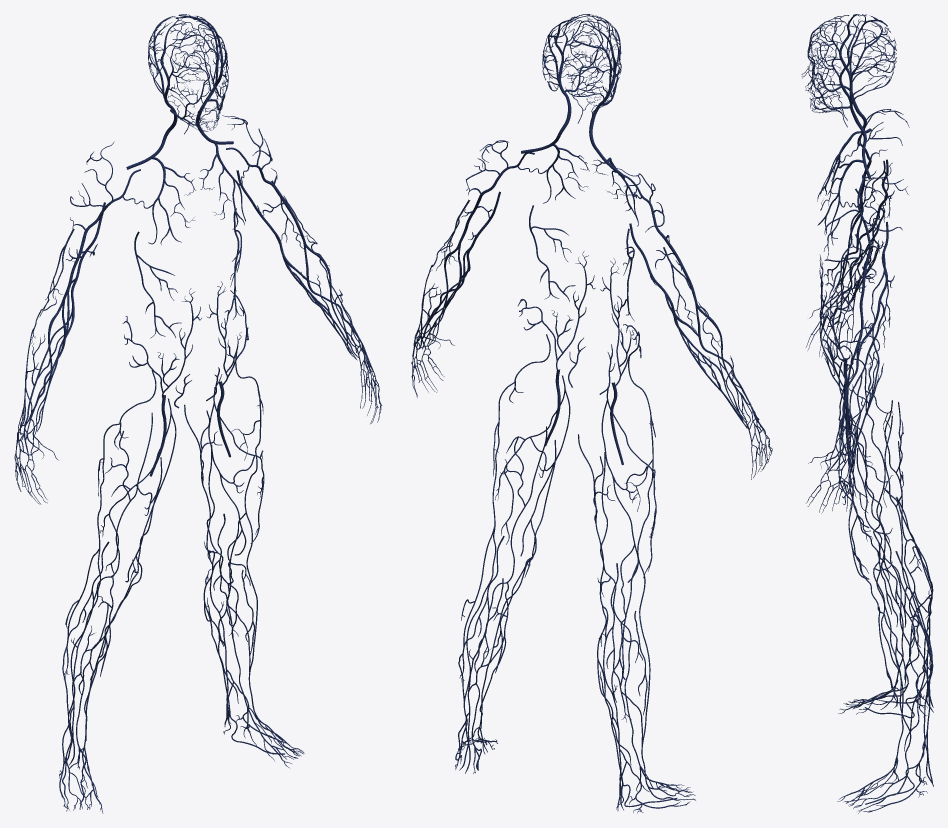
File: vessels.glb
3 renders of one model, left to right at view 1: azimuth 30°, elevation 25°; view 2: azimuth 150°, elevation 25°; view 3: azimuth 270°, elevation 25°, orthographic. The views are drawn at different scales.
Parts seen in each view (by area): view 1: Veins_r, Veins_l; view 2: Veins_r, Veins_l; view 3: Veins_l, Veins_r.
Part boxes in pixels (x1=…): Veins_r: x1=14, y1=16, x2=213, y2=813; Veins_l: x1=170, y1=14, x2=382, y2=767; Veins_r: x1=563, y1=15, x2=772, y2=813; Veins_l: x1=411, y1=14, x2=606, y2=773; Veins_l: x1=801, y1=19, x2=933, y2=813; Veins_r: x1=801, y1=14, x2=933, y2=718.
Bounding box in the file's own units: 0.8088 × 1.68 × 0.2727.
